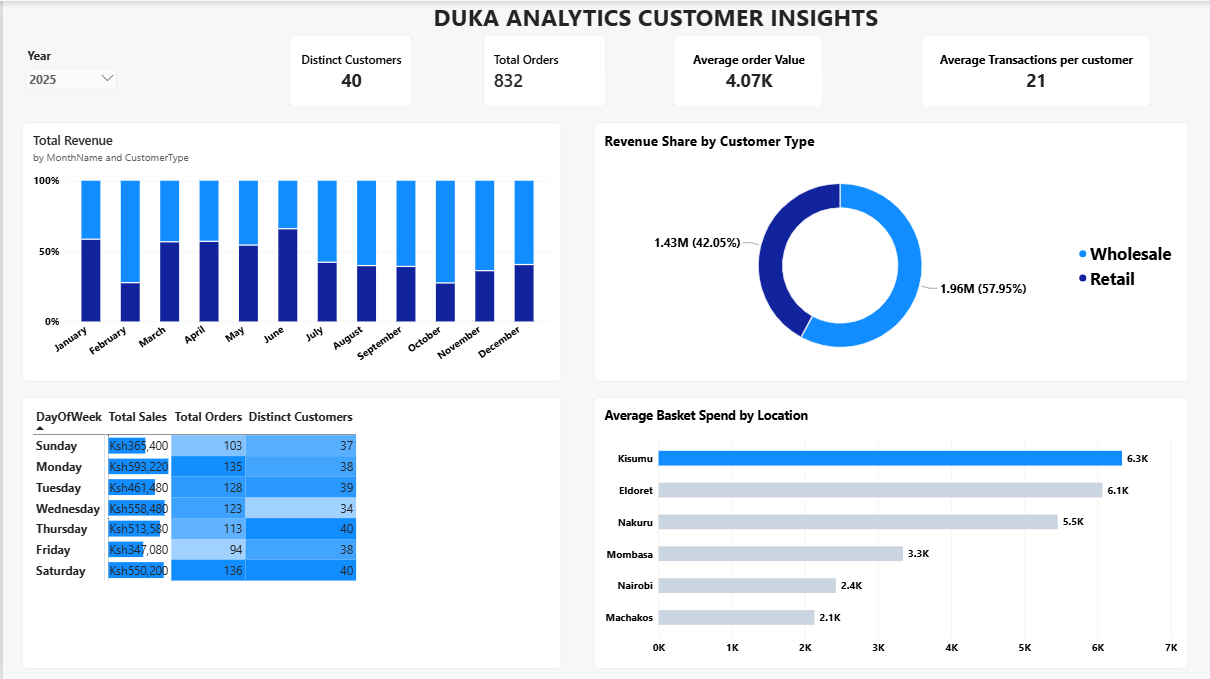

This screenshot's page, from the dashboard's own definition file:
{"tool":"powerbi","page":{"name":"customer Insights","canvas":[1920,1080],"ordinal":2},"visuals":[{"type":"slicer","fields":{"Values":["DimCalendar.Year"]},"box":[2658.5,31.6,279.8,162.5],"z":1000},{"type":"donutChart","title":"Revenue Share by Customer Type","fields":{"Category":["DimCustomer.CustomerType"],"Y":["Table.Total revenue"]},"box":[940.1,193.3,944.8,412.8],"z":3000},{"type":"textbox","box":[544,0,999.7,54.9],"z":4001},{"type":"cardVisual","fields":{"Data":["Measures_table.Distinct Customers"]},"box":[455.7,54.9,195.6,114.5],"z":4002},{"type":"cardVisual","fields":{"Data":["Measures_table.Average order Value"]},"box":[1066.5,54.9,238.6,114.5],"z":4003},{"type":"cardVisual","fields":{"Data":["Measures_table.Average Transactions per customer"]},"box":[1460.2,54.9,365,114.5],"z":4004},{"type":"cardVisual","fields":{"Data":["Measures_table.Total Orders"]},"box":[763.5,54.9,195.6,114.5],"z":4005},{"type":"slicer","fields":{"Values":["DimCalendar.Year"]},"box":[31,74,155.1,74],"z":4006},{"type":"barChart","title":"Average Basket Spend by Location","fields":{"Category":["FactSales.StoreLocation"],"Y":["Measures_table.Average order Value"]},"box":[940.1,629.9,944.8,431.9],"z":4007},{"type":"pivotTable","fields":{"Rows":["DimCalendar.DayOfWeek"],"Values":["Measures_table.Total Sales","Measures_table.Total Orders","Measures_table.Distinct Customers"]},"box":[31,629.9,856.5,431.9],"z":4008},{"type":"hundredPercentStackedColumnChart","fields":{"Category":["DimCalendar.MonthName"],"Series":["DimCustomer.CustomerType"],"Y":["Measures_table.Total Revenue"]},"box":[31,193.3,856.5,412.8],"z":4009}]}

Visuals, with their boxes in screenshot pixels (x1, y1, x2, y2), scaled from the page's 1920x1080 canvas onto the 1210x679 screenshot:
"Revenue Share by Customer Type" donutChart: (left=592, top=122, right=1188, bottom=381)
textbox: (left=343, top=0, right=973, bottom=35)
cardVisual - Measures_table.Distinct Customers: (left=287, top=35, right=410, bottom=107)
cardVisual - Measures_table.Average order Value: (left=672, top=35, right=822, bottom=107)
cardVisual - Measures_table.Average Transactions per customer: (left=920, top=35, right=1150, bottom=107)
cardVisual - Measures_table.Total Orders: (left=481, top=35, right=604, bottom=107)
slicer - DimCalendar.Year: (left=20, top=47, right=117, bottom=93)
"Average Basket Spend by Location" barChart: (left=592, top=396, right=1188, bottom=668)
pivotTable - DimCalendar.DayOfWeek x Measures_table.Total Sales: (left=20, top=396, right=559, bottom=668)
hundredPercentStackedColumnChart - DimCalendar.MonthName x DimCustomer.CustomerType: (left=20, top=122, right=559, bottom=381)
